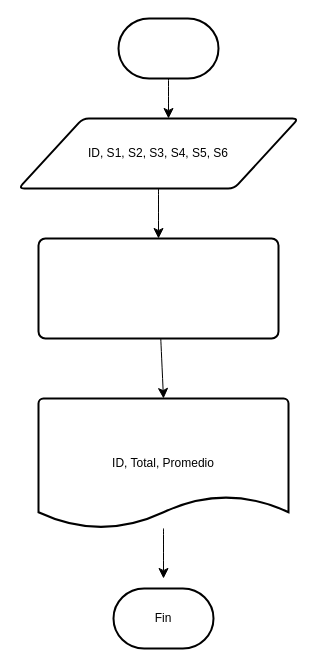
Some shapes in this 316 by 666 pixel diagram are drawn without their labels. Here are the shapes that lost their labels. From the top down, the centre of each, then its label:
At (168,48): "Inicio".
At (158,288): "Total = S1+ S2 + S3 + S4 + S5 +S6 PROMEDIO = Total/6".
